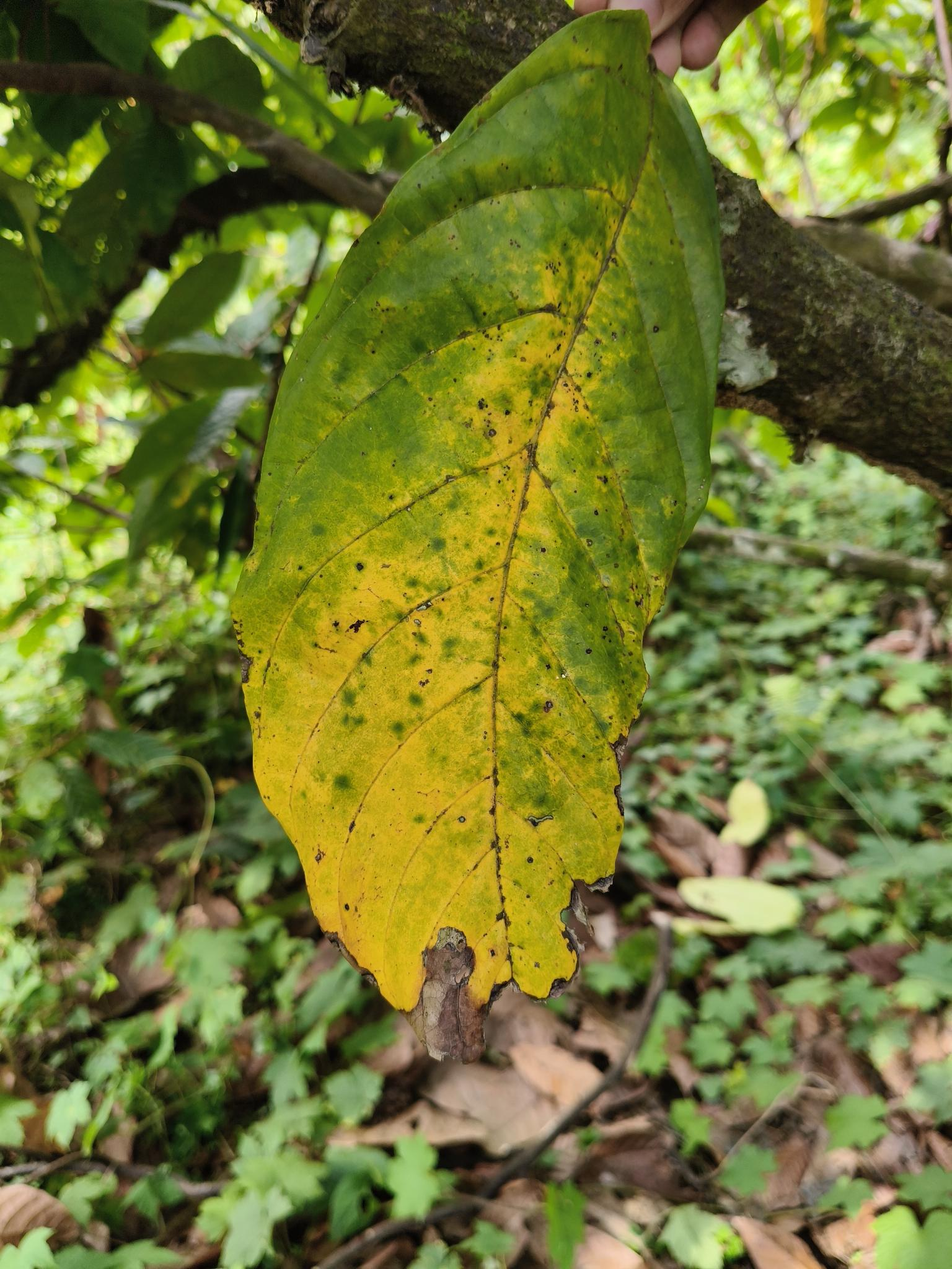Fosforo: (227, 0, 758, 1025)
